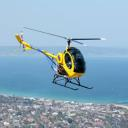helicopter: (14, 26, 108, 92)
